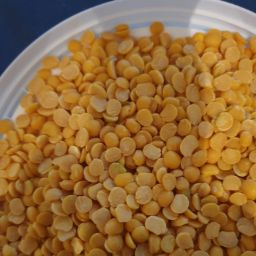Pigeon Pea(toor daal): (19, 23, 256, 256), (57, 72, 247, 227), (79, 113, 147, 147)
